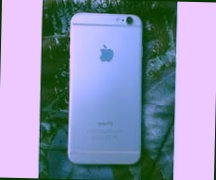iphone: (73, 13, 148, 165)
